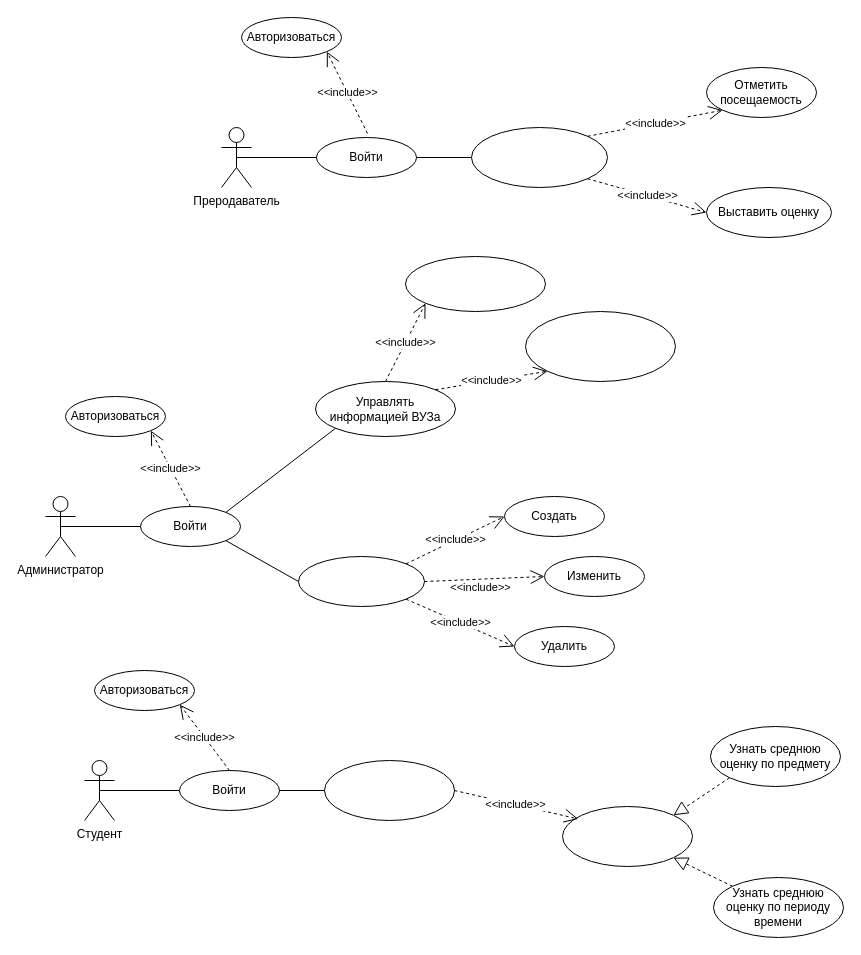
Image size: 861x955. Some labels were removed from this diagram. The shapes that lost their labels are listed below. From the top down, each one's centre as x and y in pixels, then its label:
(539,157): Вести электронный журнал
(475,284): Управлять учебными планами
(600,346): Управлять академическими задолженностями
(361,581): Настраивать пользователей
(389,790): Просматривать зачетную книжку
(627,836): Просматривать оценки
